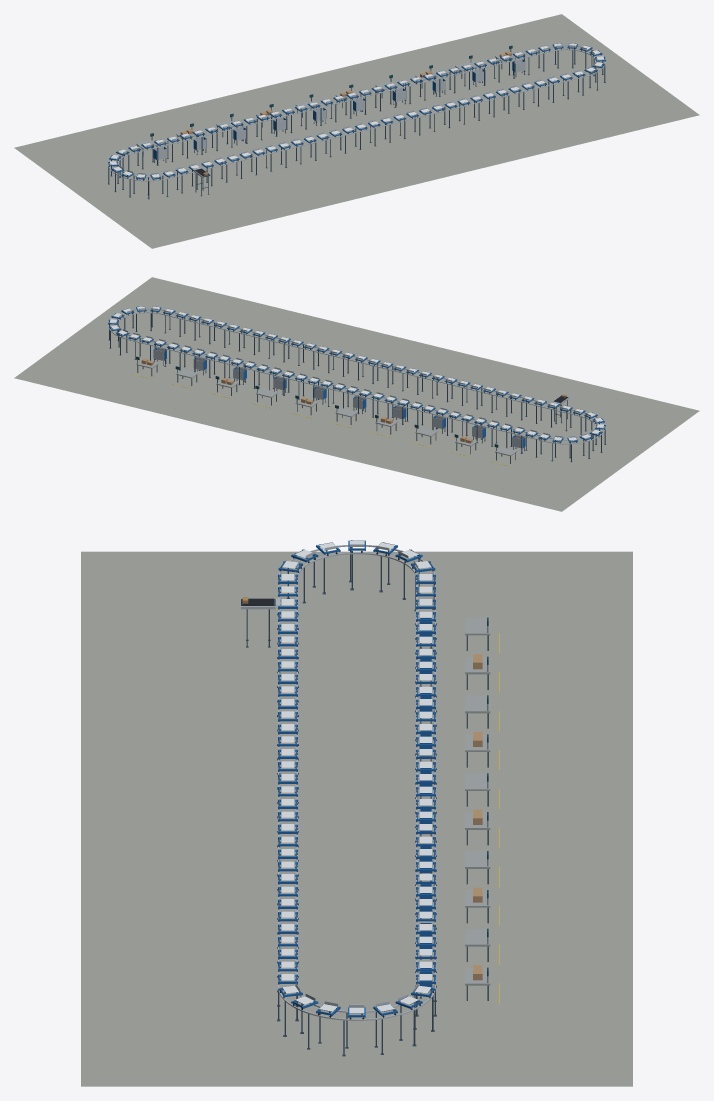
3 views of the same model, one above another, from view 1: azimuth 30°, elevation 25°; view 2: azimuth 150°, elevation 25°; view 3: azimuth 270°, elevation 25° (orthographic). The views are drawn at different scales.
Parts seen in each view (by area): view 1: Studio ground, guide-rail-1, guide-rail--1, Operator staging worktops; view 2: Studio ground, guide-rail-1, Operator staging worktops, guide-rail--1, Operator staging legs; view 3: Studio ground, Operator staging worktops, guide-rail-1, guide-rail--1.
Part boxes in pixels (x1=…): Studio ground: x1=14, y1=14, x2=699, y2=248; guide-rail-1: x1=108, y1=45, x2=605, y2=181; guide-rail--1: x1=117, y1=49, x2=595, y2=177; Operator staging worktops: x1=136, y1=53, x2=516, y2=148; Studio ground: x1=14, y1=277, x2=699, y2=511; guide-rail-1: x1=108, y1=308, x2=605, y2=444; Operator staging worktops: x1=136, y1=360, x2=517, y2=456; guide-rail--1: x1=118, y1=312, x2=596, y2=440; Operator staging legs: x1=137, y1=360, x2=515, y2=463; Studio ground: x1=81, y1=551, x2=632, y2=1086; Operator staging worktops: x1=465, y1=618, x2=490, y2=985; guide-rail-1: x1=278, y1=545, x2=435, y2=1020; guide-rail--1: x1=296, y1=552, x2=417, y2=1012.
Size of the model in its own units: 55 by 2.16 by 24.
